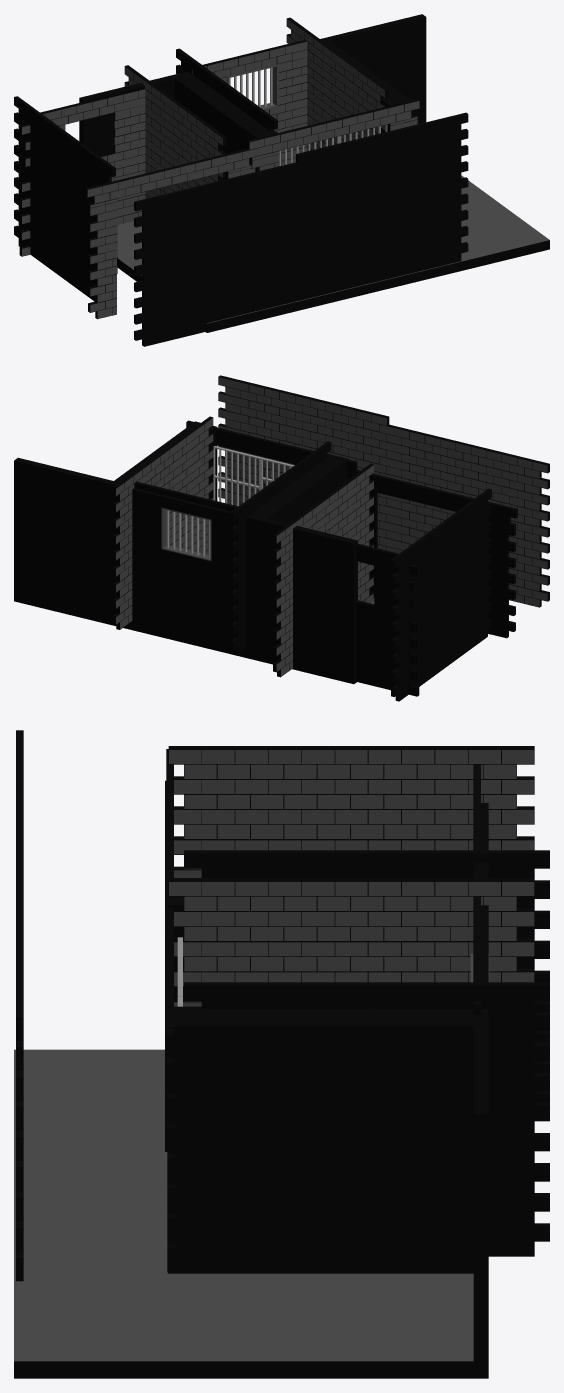
The model's file is PrisonGLB.glb.
The picture shows the model from 3 angles, top to bottom: view 1: azimuth 30°, elevation 25°; view 2: azimuth 150°, elevation 25°; view 3: azimuth 270°, elevation 25°; orthographic projection. The views are drawn at different scales.
Visible parts, largest first — view 1: Cube.012, Cube.084, Cube, Cylinder, Cube.001; view 2: Cube.012, Cube, Cube.084, Cylinder, Cylinder.002, Cube.001, Cube.007; view 3: Cube, Cube.084, Cube.012.
Boxes of the visible parts, box(x1,y1,x2,y2) form: Cube.012: box(14, 65, 306, 346); Cube.084: box(176, 17, 468, 298); Cube: box(79, 14, 549, 332); Cylinder: box(229, 67, 272, 107); Cube.001: box(227, 64, 278, 110); Cube.012: box(273, 424, 549, 701); Cube: box(14, 421, 374, 684); Cube.084: box(112, 375, 389, 654); Cylinder: box(166, 510, 210, 558); Cylinder.002: box(219, 449, 256, 506); Cube.001: box(161, 507, 211, 561); Cube.007: box(213, 446, 260, 500); Cube: box(14, 803, 488, 1378); Cube.084: box(16, 862, 549, 1281); Cube.012: box(16, 730, 549, 1102).
Size of the model in its own units: 7.6 by 2.67 by 4.49.
Materials: 1 (1 with a texture image).
